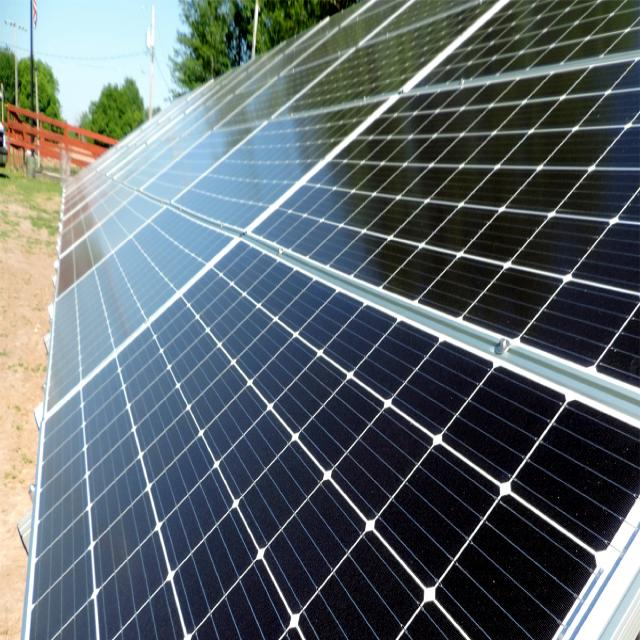crack: (364, 419, 512, 639), (385, 130, 570, 296), (270, 514, 509, 640), (132, 392, 292, 552), (240, 472, 384, 630), (515, 246, 640, 386), (148, 511, 266, 616), (472, 244, 559, 366), (233, 242, 291, 330)
